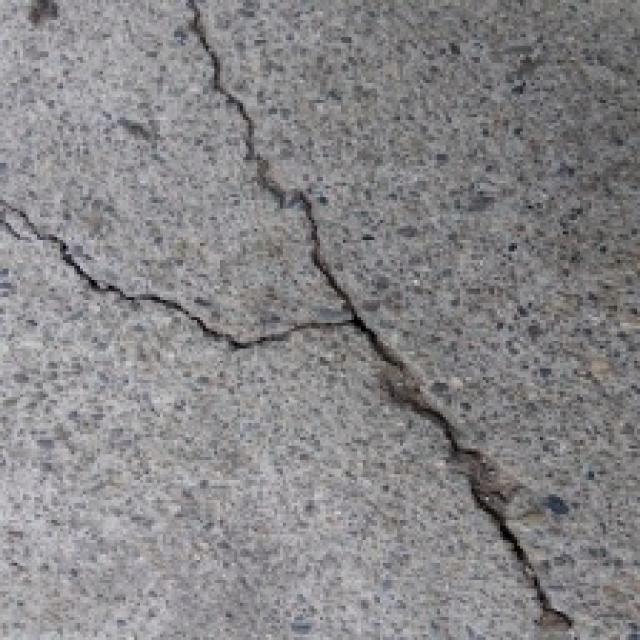SurfaceCrack: (0, 158, 400, 384)
